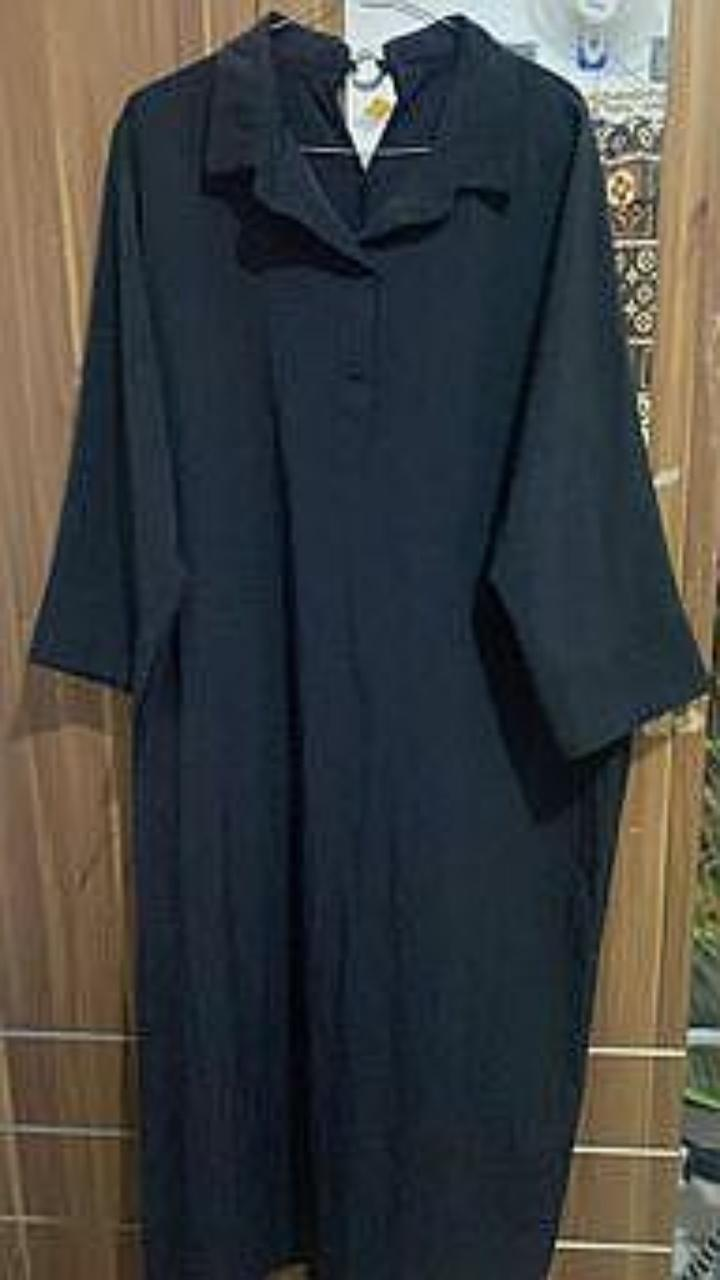Coat: (30, 10, 709, 1279)
